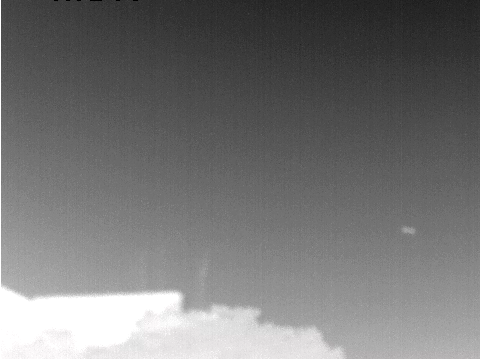dim target: (394, 220, 425, 240)
